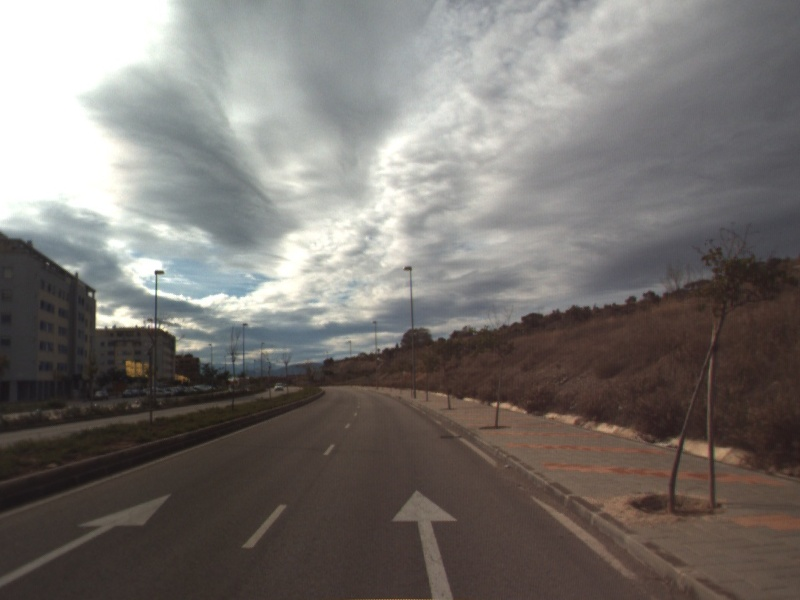STRAIGHT: (1, 488, 176, 588), (388, 487, 460, 600)
